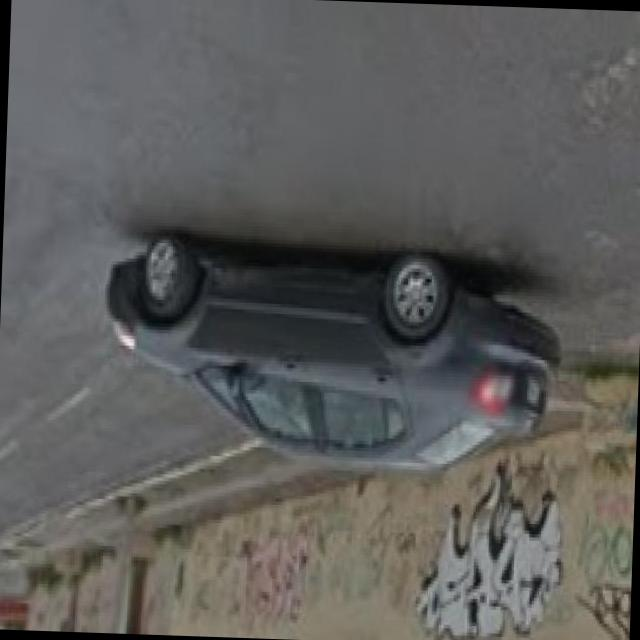car: (92, 227, 560, 492)
